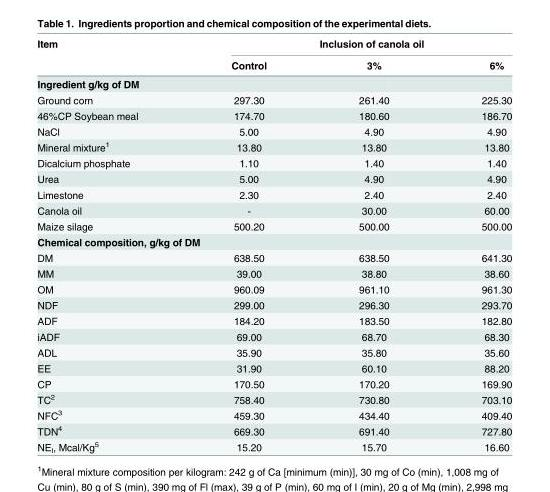table: (36, 37, 511, 453)
table column: (36, 37, 184, 453), (184, 37, 312, 453), (312, 37, 434, 453), (434, 37, 511, 453)
table column header: (36, 37, 511, 74)
table projected row header: (36, 74, 511, 91), (36, 233, 511, 249)
table row: (36, 53, 511, 74), (36, 74, 511, 91), (36, 37, 511, 53), (36, 91, 511, 107), (36, 107, 511, 123), (36, 138, 511, 154), (36, 154, 511, 170), (36, 170, 511, 186), (36, 186, 511, 202), (36, 217, 511, 233), (36, 233, 511, 249), (36, 249, 511, 265), (36, 265, 511, 281), (36, 296, 511, 312), (36, 312, 511, 328), (36, 328, 511, 344), (36, 359, 511, 375), (36, 390, 511, 406), (36, 406, 511, 422), (36, 422, 511, 438), (36, 123, 511, 138), (36, 202, 511, 217), (36, 281, 511, 296), (36, 344, 511, 359), (36, 375, 511, 390), (36, 438, 511, 453)
table spanning cell: (36, 37, 184, 74), (184, 37, 511, 53)
